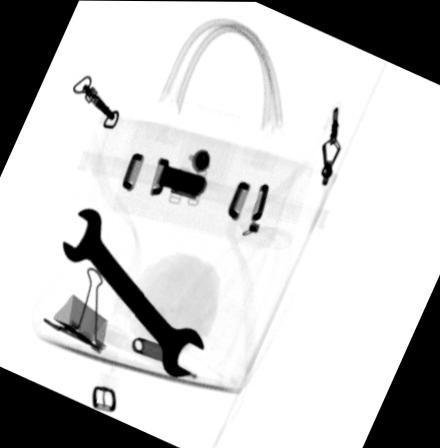Wrench: (60, 206, 207, 379)
